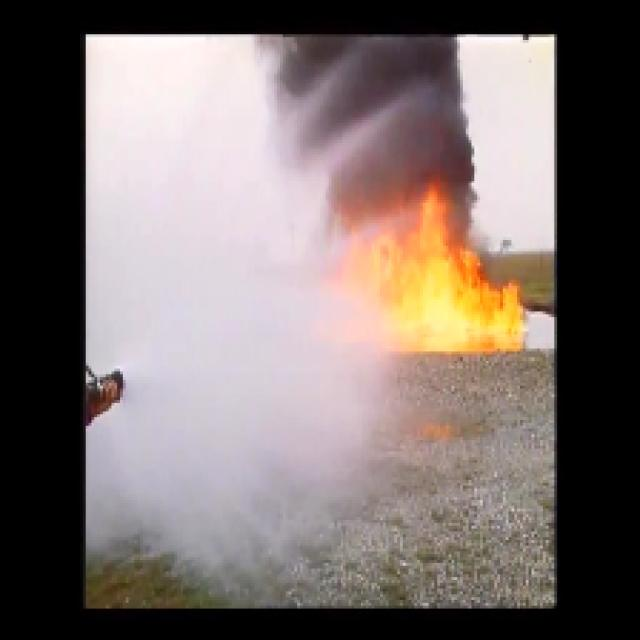fire: (377, 230, 520, 350)
smoke: (343, 36, 475, 212)
